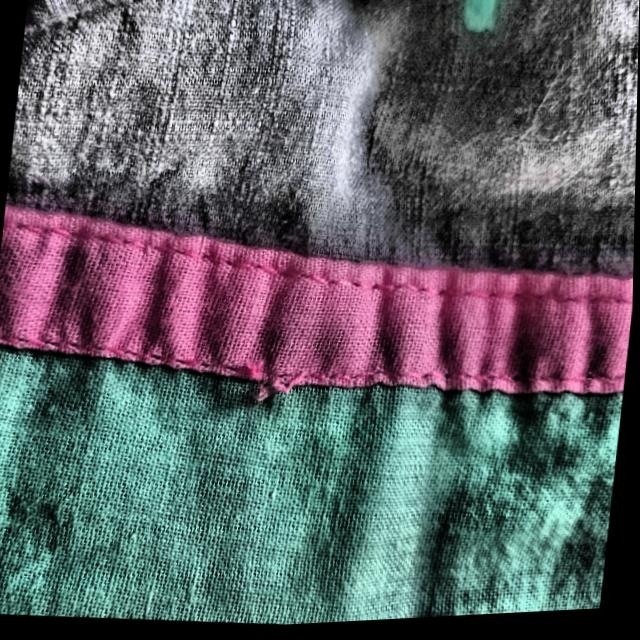Stitch: (192, 314, 364, 456)
